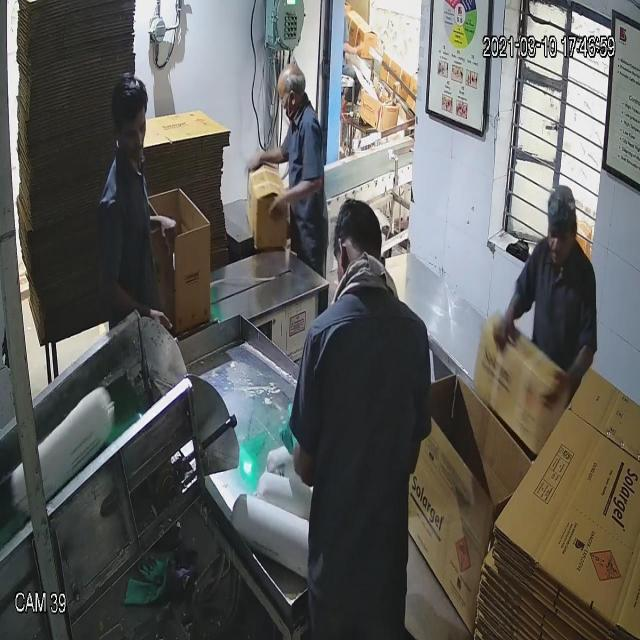No_Gloves: (40, 39, 561, 372)
